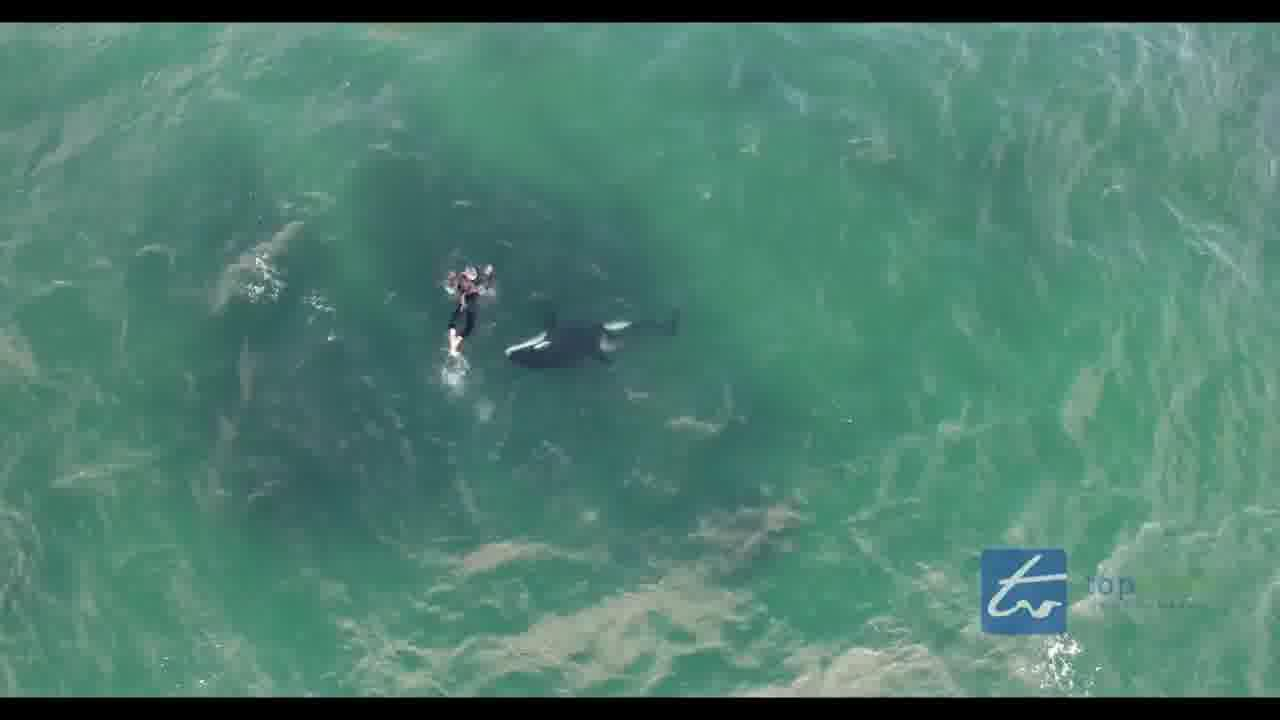human: (430, 251, 500, 371)
